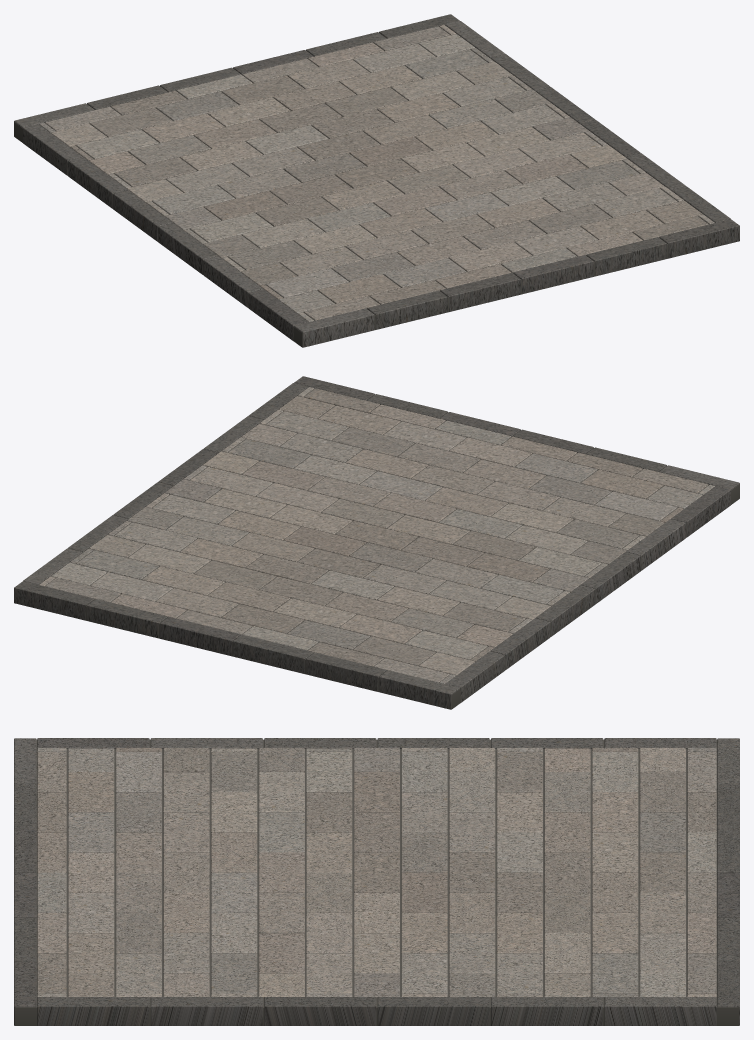
File: floor-paving-wide.glb
3 renders of one model, top to bottom at view 1: azimuth 30°, elevation 25°; view 2: azimuth 150°, elevation 25°; view 3: azimuth 270°, elevation 25°, orthographic. The views are drawn at different scales.
Parts seen in each view (by area): view 1: Individually_sawn_paving, Perimeter_granite, Compacted_base_and_visible_joints; view 2: Individually_sawn_paving, Perimeter_granite, Compacted_base_and_visible_joints; view 3: Individually_sawn_paving, Perimeter_granite, Compacted_base_and_visible_joints.
Boxes of the visible parts, box(x1,y1,x2,y2) form: Individually_sawn_paving: box(39, 25, 714, 321); Perimeter_granite: box(14, 14, 739, 347); Compacted_base_and_visible_joints: box(14, 29, 706, 347); Individually_sawn_paving: box(39, 387, 714, 683); Perimeter_granite: box(14, 376, 739, 709); Compacted_base_and_visible_joints: box(46, 391, 739, 709); Individually_sawn_paving: box(37, 748, 716, 997); Perimeter_granite: box(14, 738, 739, 1025); Compacted_base_and_visible_joints: box(15, 739, 738, 1025).
Size of the model in its own units: 2.8 by 0.097 by 3.2.
Materials: 2 (1 with a texture image).
